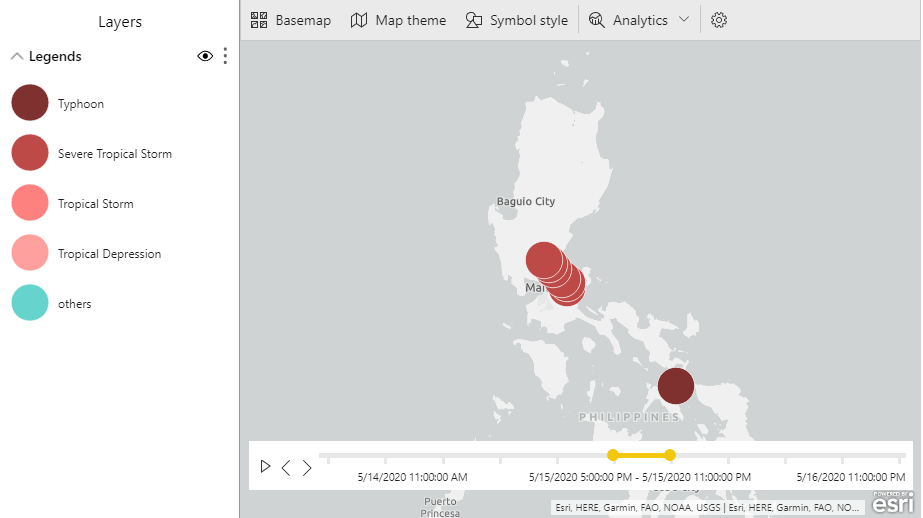

Layout of this report page (visuals, bound fields, positions):
{"tool":"powerbi","page":{"name":"Page 3","canvas":[1280,720],"ordinal":0},"visuals":[{"type":"esriVisual","fields":{"Time":["Pagasa.Datetime"],"Latitude":["Pagasa.Latitude"],"Longitude":["Pagasa.Longitude"],"Color":["Pagasa.Intensity"]},"box":[9.6,0,1270.4,720.4],"z":0}]}

Visuals, with their boxes on the page's 1280x720 design canvas (x1, y1, x2, y2). These are canvas units, not pixel positions in the 923x518 screenshot, which may show the page scaled, cropped or inside an application window:
esriVisual - Pagasa.Datetime x Pagasa.Latitude: bbox(10, 0, 1280, 720)
